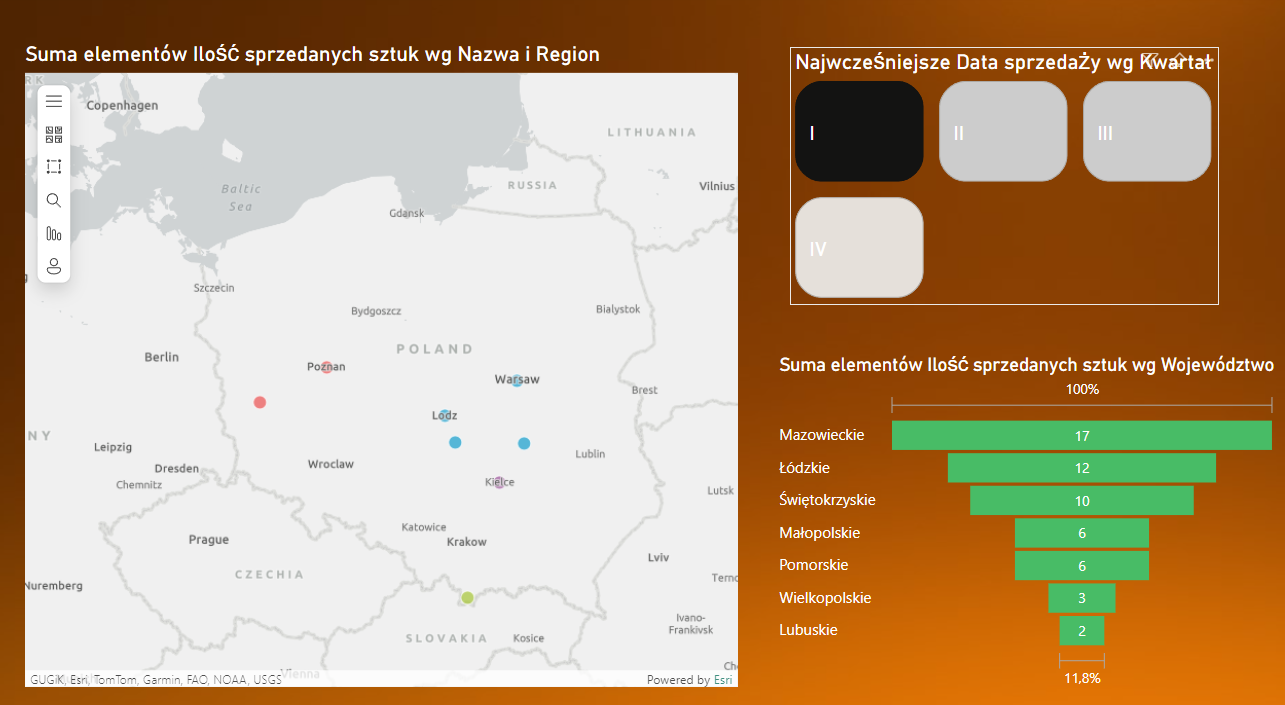

The page's visual inventory and layout, read from the dashboard file:
{"tool":"powerbi","page":{"name":"Strona 2","canvas":[1280,720],"ordinal":1},"visuals":[{"type":"esriVisual","fields":{"Color":["Województwa.Region"],"Location":["Miasta.Nazwa"],"Size":["Sum(Zamówienia.Ilość)"]},"box":[26.3,42.1,703.3,634.8],"z":0},{"type":"advancedSlicerVisual","fields":{"Values":["Kalendarz.Kwartał"]},"box":[775.3,50,417.1,250.2],"z":1000},{"type":"funnel","fields":{"Category":["Województwa.Województwo"],"Y":["Sum(Zamówienia.Ilość)"]},"box":[759.5,346,494.3,331],"z":2000}]}

Visuals, with their boxes in screenshot pixels (x1, y1, x2, y2), scaled from the page's 1280x720 canvas onto the 1285x705 screenshot:
esriVisual - Województwa.Region x Miasta.Nazwa: <box>26,41,732,663</box>
advancedSlicerVisual - Kalendarz.Kwartał: <box>778,49,1197,294</box>
funnel - Województwa.Województwo x Sum(Zamówienia.Ilość): <box>762,339,1259,663</box>
